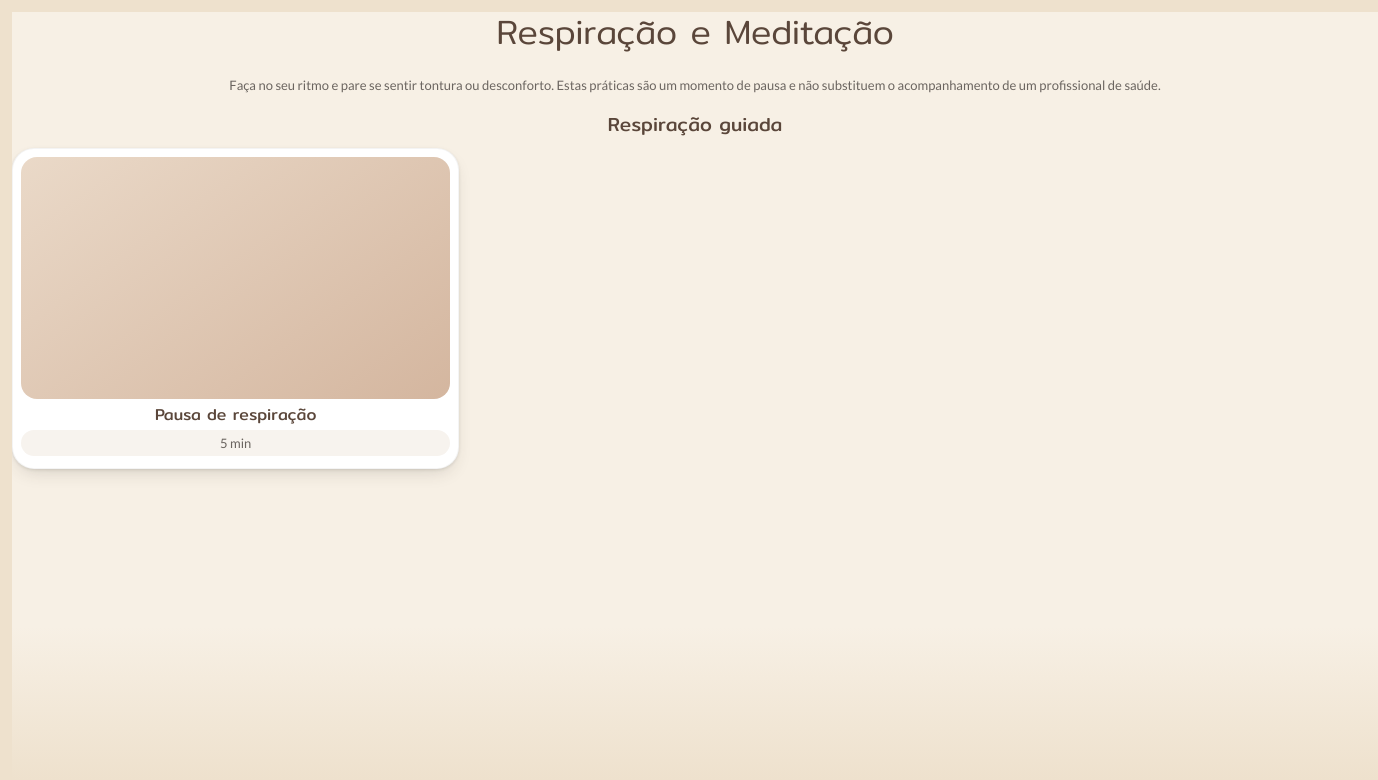
Test: BreathingPage — Respiração e Meditação › mostra a sessão no tipo certo, com duração, orientações e áudio
Expected: the element "Respiração guiada" is shown, top-left (12, 109), bottom-right (782, 469)
Expected: the text "Sente-se com conforto." is not shown
Click the button with aria-label "Abrir Pausa de respiração". click: (236, 308)
box: top-left (12, 148), bottom-right (459, 469)
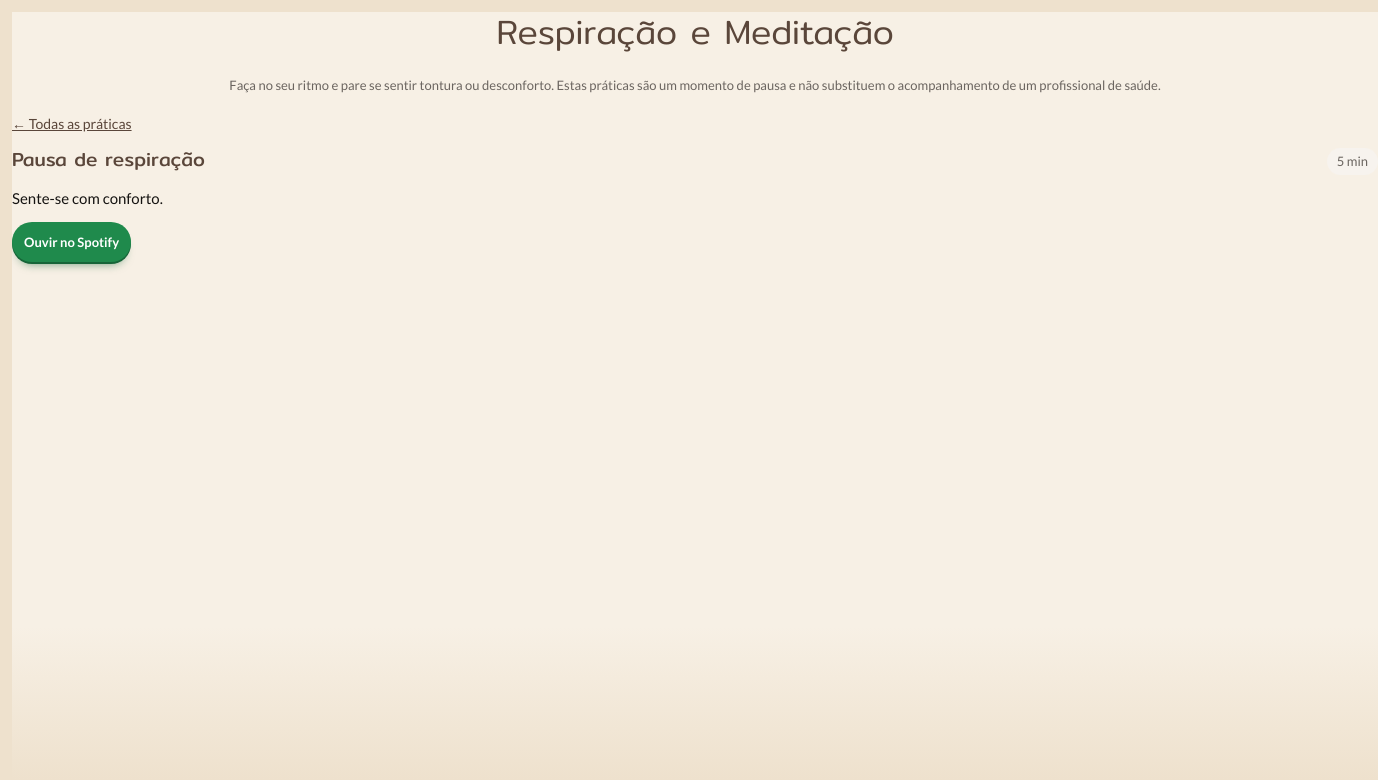
Result: the heading "Pausa de respiração" is shown at top-left (12, 147), bottom-right (205, 172)
Result: the text "Sente-se com conforto." is shown at top-left (12, 186), bottom-right (163, 210)
